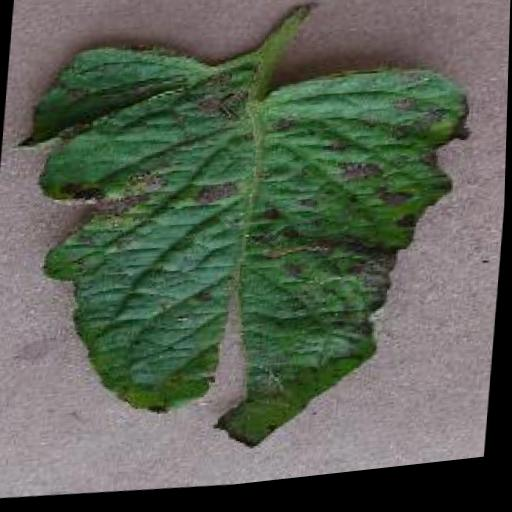Early Blight: (0, 3, 476, 485)
